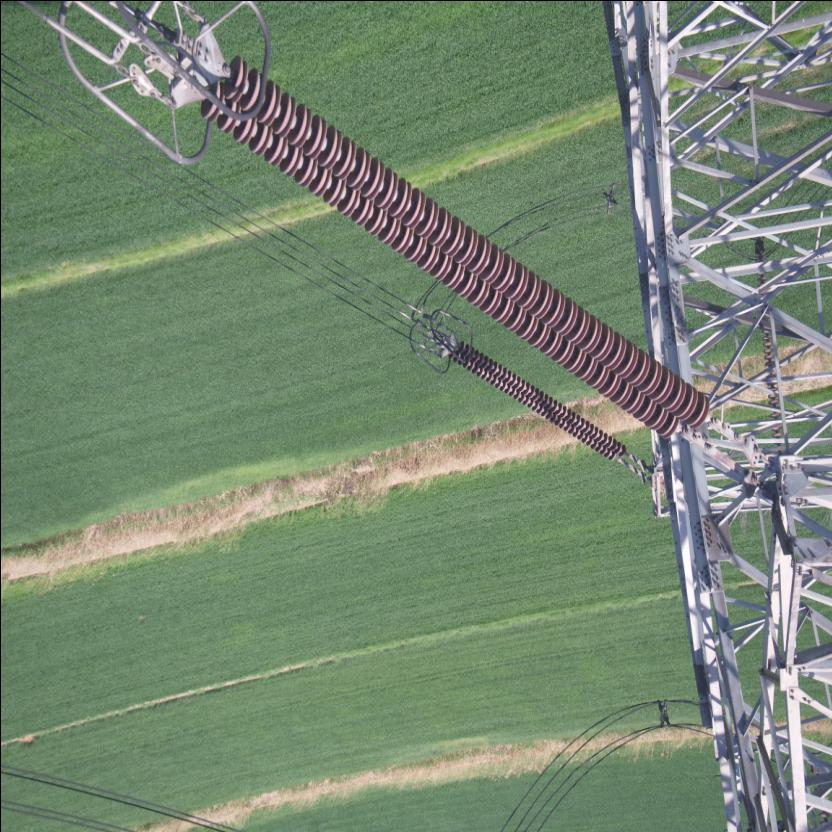insulator: (192, 47, 722, 452), (446, 338, 632, 470)
